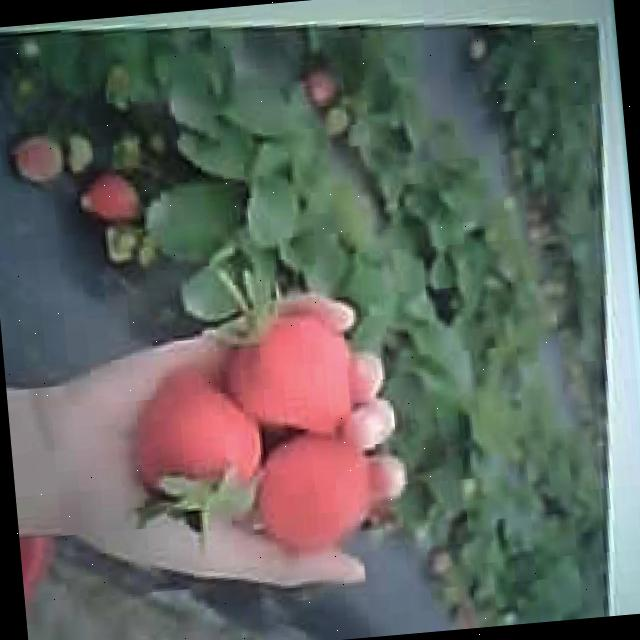strawberry: (129, 361, 261, 515), (228, 310, 356, 438), (64, 131, 96, 174), (320, 106, 350, 136)
